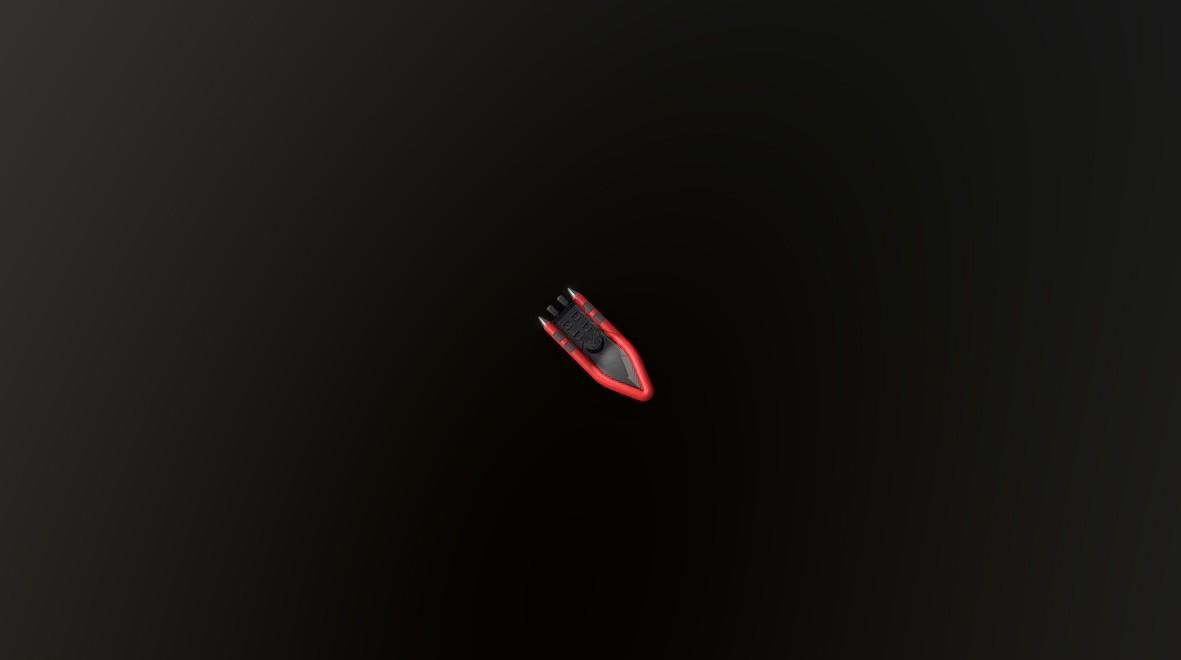Boat: (536, 285, 654, 402)
